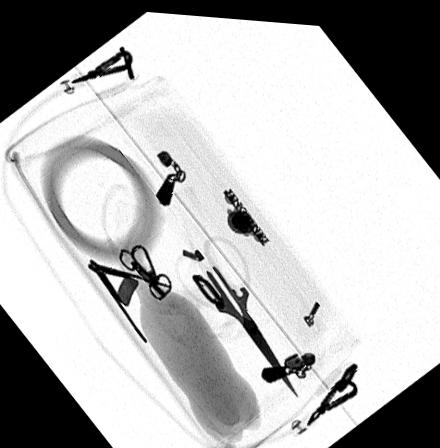Scissors: (172, 230, 297, 393)
